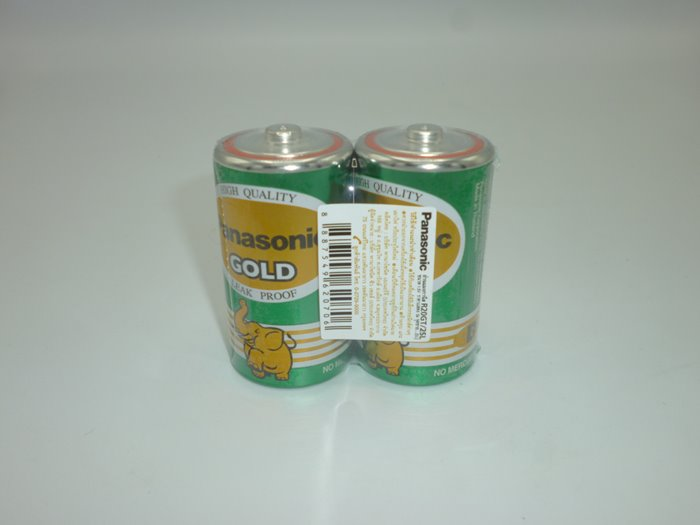Battery: (353, 122, 497, 388), (213, 122, 354, 391)
